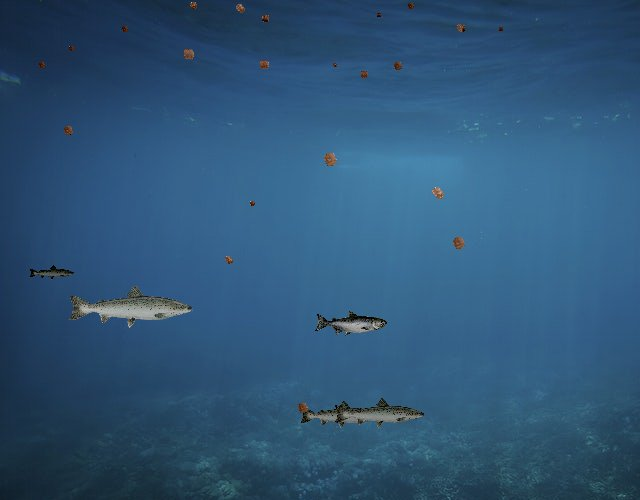Fish: (66, 283, 195, 329), (332, 396, 426, 430), (298, 399, 384, 430), (314, 310, 387, 337), (29, 264, 76, 281)
Pellet: (424, 180, 451, 207), (446, 230, 472, 256), (177, 43, 200, 66), (292, 397, 314, 419), (220, 251, 238, 269), (118, 22, 132, 36), (246, 197, 258, 209)
